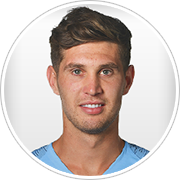smile: (77, 102, 107, 113)
